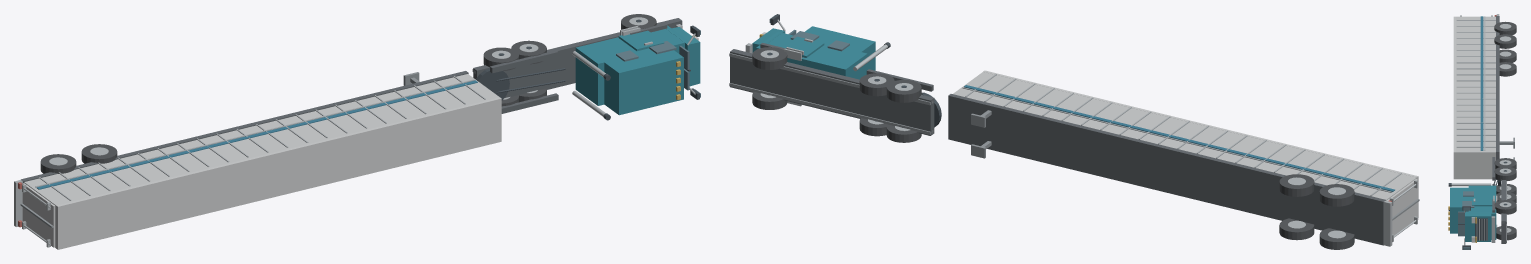
File: modern_semi_truck.glb
The picture shows the model from 3 angles, left to right: view 1: azimuth 30°, elevation 25°; view 2: azimuth 150°, elevation 25°; view 3: azimuth 270°, elevation 25°; orthographic projection. The views are drawn at different scales.
Parts seen in each view (by area): view 1: trailer_roof_73, semi_trailer_body_72, high_roof_sleeper_5, tractor_main_frame_1, sleeper_cab_lower_4, trailer_base_frame_74, trailer_blue_stripe_99, trailer_rear_doors_123, trailer_accent_100, hood_front_6, fifth_wheel_71, rear_fender_top_70 (+6 smaller); view 2: trailer_base_frame_74, semi_trailer_body_72, tractor_main_frame_1, sleeper_cab_lower_4, trailer_blue_stripe_99, trailer_roof_73, high_roof_sleeper_5, trailer_rear_doors_123, trailer_accent_100, frame_rail_2, trailer_tire_137, trailer_tire_141 (+10 smaller); view 3: semi_trailer_body_72, sleeper_cab_lower_4, high_roof_sleeper_5, trailer_blue_stripe_99, trailer_base_frame_74, hood_front_6, trailer_roof_73, tractor_main_frame_1, trailer_accent_100, front_grille_7, tractor_tire_52, tractor_tire_58 (+40 smaller).
Part boxes in pixels (<box>): trailer_roof_73: <box>56,97,501,249</box>; semi_trailer_body_72: <box>24,74,499,248</box>; high_roof_sleeper_5: <box>604,50,683,115</box>; tractor_main_frame_1: <box>473,18,682,97</box>; sleeper_cab_lower_4: <box>575,25,688,105</box>; trailer_base_frame_74: <box>21,71,468,183</box>; trailer_blue_stripe_99: <box>36,80,477,189</box>; trailer_rear_doors_123: <box>22,183,55,247</box>; trailer_accent_100: <box>35,79,474,187</box>; hood_front_6: <box>667,27,700,86</box>; fifth_wheel_71: <box>476,68,509,100</box>; rear_fender_top_70: <box>490,50,558,73</box>; trailer_base_frame_74: <box>948,94,1385,245</box>; semi_trailer_body_72: <box>953,72,1417,200</box>; tractor_main_frame_1: <box>730,49,934,135</box>; sleeper_cab_lower_4: <box>756,32,867,79</box>; trailer_blue_stripe_99: <box>964,85,1394,191</box>; trailer_roof_73: <box>983,70,1418,218</box>; high_roof_sleeper_5: <box>805,26,875,70</box>; trailer_rear_doors_123: <box>1387,179,1417,235</box>; trailer_accent_100: <box>962,87,1392,192</box>; frame_rail_2: <box>729,83,933,134</box>; trailer_tire_137: <box>1279,174,1314,196</box>; trailer_tire_141: <box>1319,184,1354,206</box>; semi_trailer_body_72: <box>1455,16,1495,179</box>; sleeper_cab_lower_4: <box>1468,185,1496,239</box>; high_roof_sleeper_5: <box>1450,187,1468,233</box>; trailer_blue_stripe_99: <box>1480,16,1483,150</box>; trailer_base_frame_74: <box>1496,16,1499,179</box>; hood_front_6: <box>1465,212,1491,241</box>; trailer_roof_73: <box>1453,16,1455,179</box>; tractor_main_frame_1: <box>1501,179,1506,243</box>; trailer_accent_100: <box>1484,16,1485,150</box>; front_grille_7: <box>1475,218,1487,240</box>; tractor_tire_52: <box>1494,200,1516,214</box>; tractor_tire_58: <box>1494,166,1516,180</box>.
Bounding box in the file's own units: 42.42 × 4.16 × 6.
